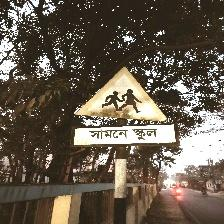School-in-front: (71, 66, 177, 148)
